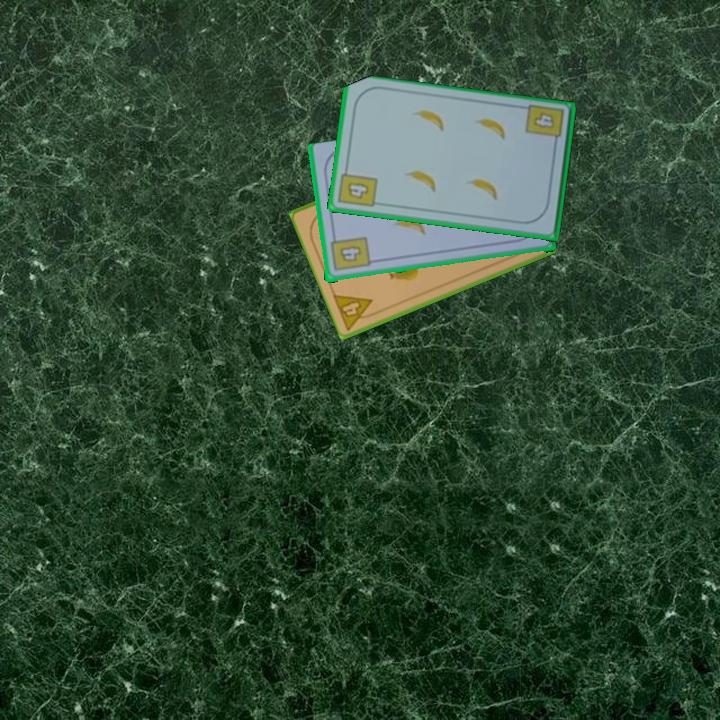4b: (522, 101, 567, 150), (335, 164, 380, 210), (327, 232, 372, 274)
4p: (329, 290, 382, 333)
